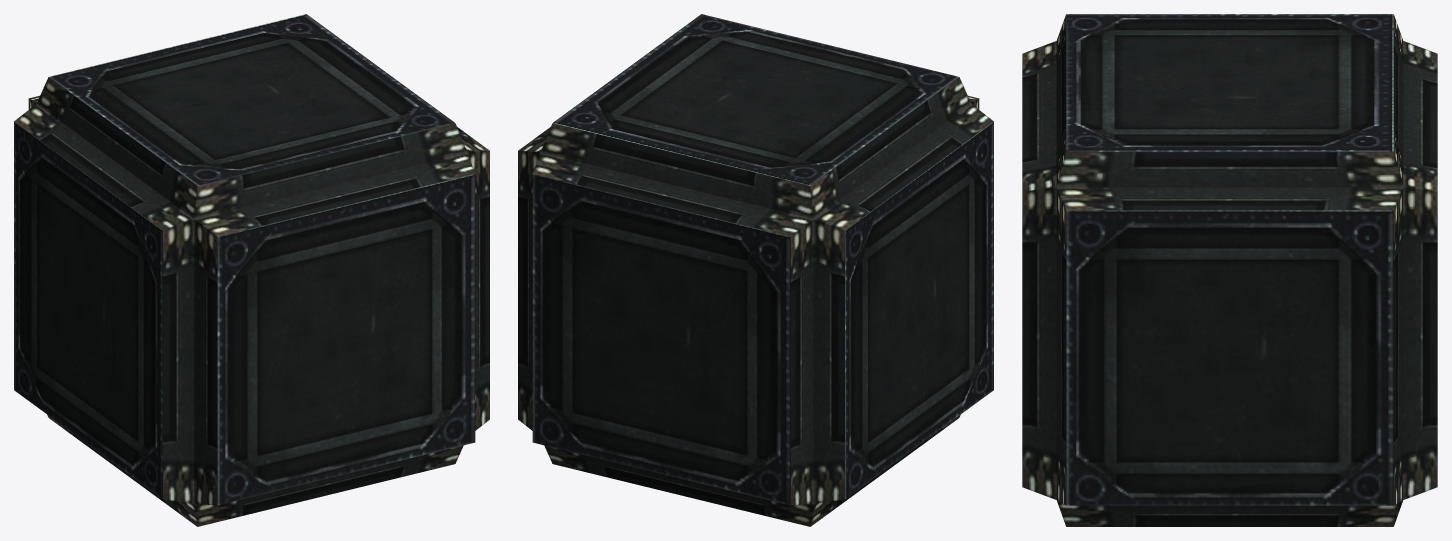
Rendered from Crate01.FBX.
3 renders of one model, left to right at view 1: azimuth 30°, elevation 25°; view 2: azimuth 150°, elevation 25°; view 3: azimuth 270°, elevation 25°, orthographic. The views are drawn at different scales.
Parts seen in each view (by area): view 1: Crate01; view 2: Crate01; view 3: Crate01.
Part boxes in pixels (x1,y1,x2,y2): Crate01: (14, 14, 489, 526); Crate01: (518, 14, 993, 526); Crate01: (1022, 14, 1437, 526).
Size of the model in its own units: 131 by 130 by 131.
